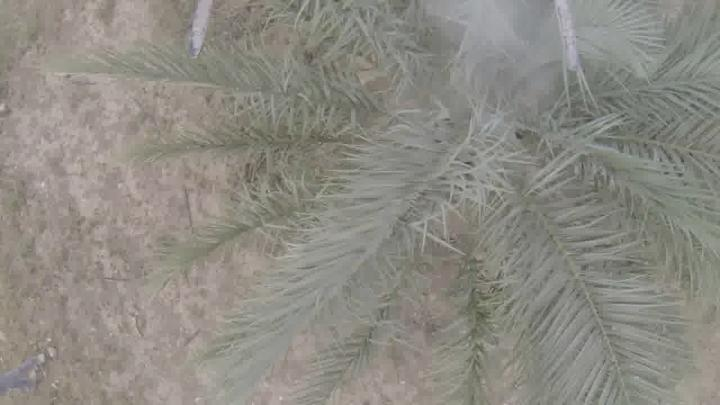Date-Palm-Crown: (278, 0, 694, 316)
